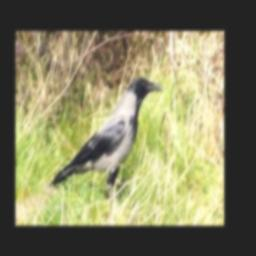Crow: (49, 77, 164, 198)
